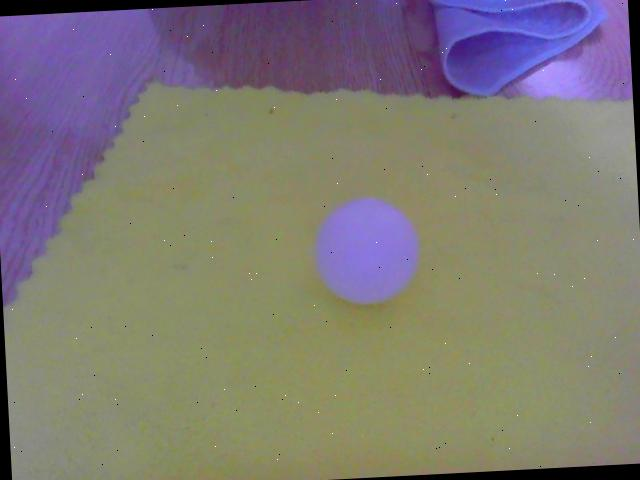ball: (313, 197, 422, 307)
